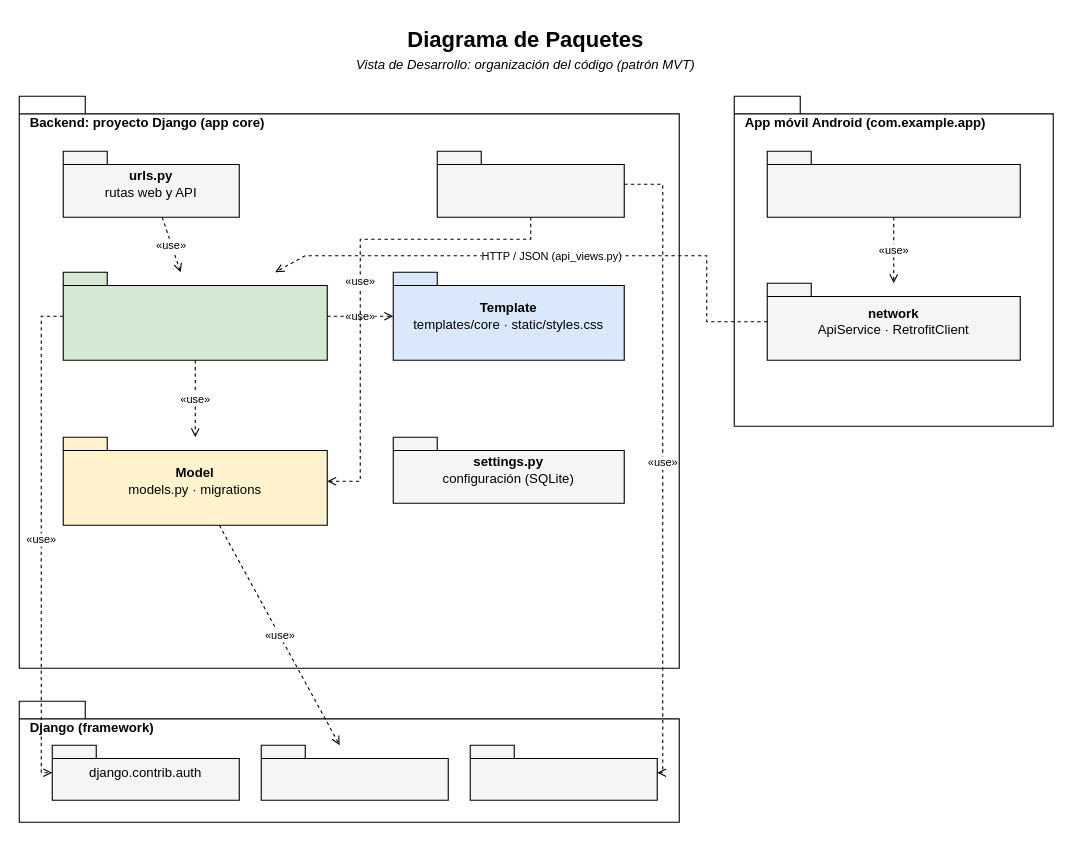
Some shapes in this 1073 by 842 pixel diagram are drawn without their labels. The centre of each missing label's shape, as x and y in pixels:
"admin.py panel de administración" belongs at (x=530, y=183).
"django.contrib.admin" belongs at (x=563, y=772).
"django.db (ORM)" belongs at (x=354, y=772).
"Pantallas *Screen.kt (Jetpack Compose)" belongs at (x=893, y=183).
"View views.py · api_views.py" belongs at (x=194, y=315).
